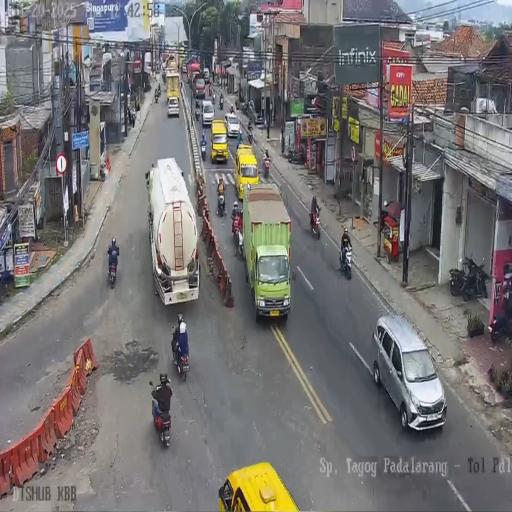car: (372, 311, 446, 427), (210, 118, 229, 162), (224, 113, 240, 138), (201, 101, 215, 127), (167, 96, 179, 118), (203, 67, 210, 81)
motorcycle: (450, 253, 490, 302), (491, 270, 512, 340), (150, 385, 171, 447), (173, 336, 189, 380), (340, 240, 352, 280), (107, 250, 119, 286), (309, 205, 321, 240), (286, 147, 304, 165), (216, 188, 226, 218), (263, 153, 270, 176), (200, 138, 206, 160), (248, 126, 254, 144), (154, 88, 160, 102), (195, 105, 200, 121), (219, 95, 223, 109), (212, 90, 216, 104), (154, 72, 158, 82)
truck: (146, 154, 199, 305), (242, 183, 290, 320), (234, 144, 258, 200), (194, 78, 205, 99), (144, 51, 152, 79), (182, 62, 187, 74)
